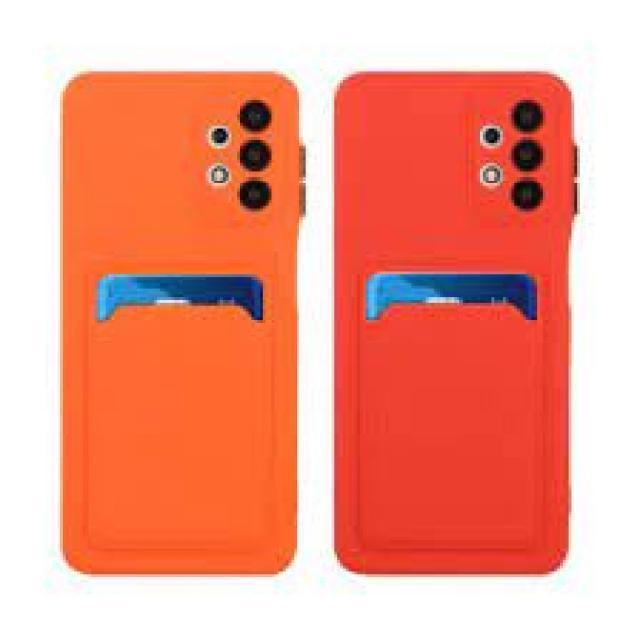mobile: (331, 70, 582, 578), (60, 67, 308, 578)
